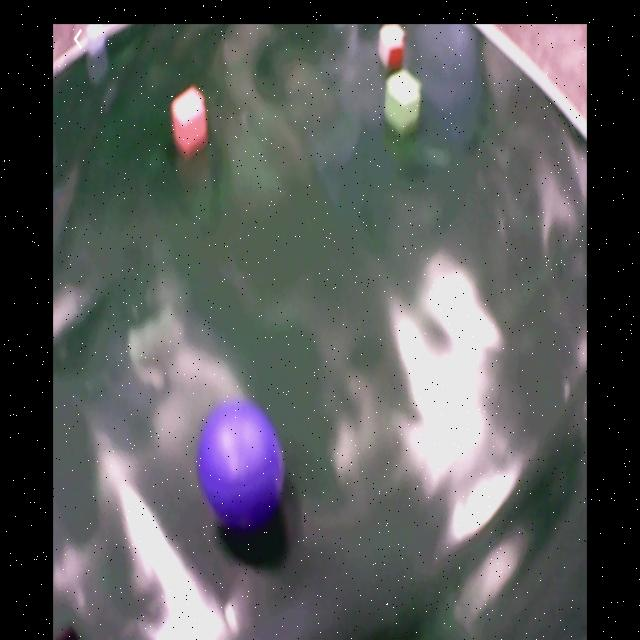ball: (199, 403, 288, 529)
